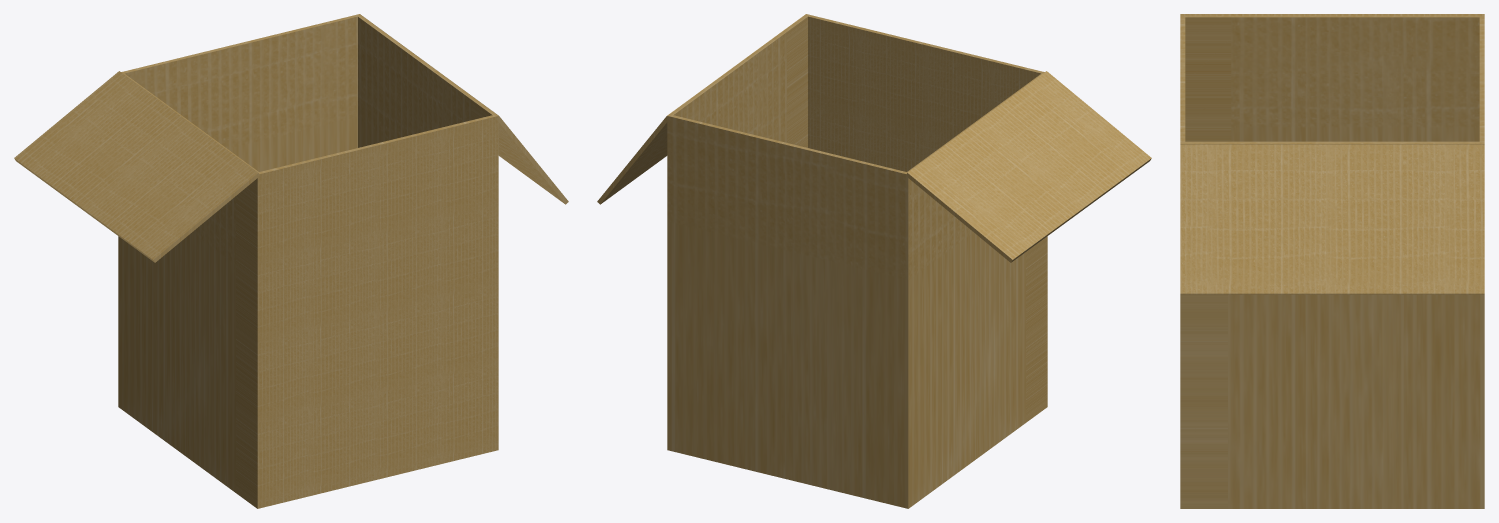
The model's file is Cardboard_E.fbx.
3 renders of one model, left to right at view 1: azimuth 30°, elevation 25°; view 2: azimuth 150°, elevation 25°; view 3: azimuth 270°, elevation 25°, orthographic. The views are drawn at different scales.
Visible parts, largest first — view 1: Cardboard_Etype; view 2: Cardboard_Etype; view 3: Cardboard_Etype.
Boxes of the visible parts, <box> form: Cardboard_Etype: <box>14,14,568,508</box>; Cardboard_Etype: <box>597,14,1151,508</box>; Cardboard_Etype: <box>1180,14,1484,508</box>.
Size of the model in its own units: 345 by 266 by 200.
